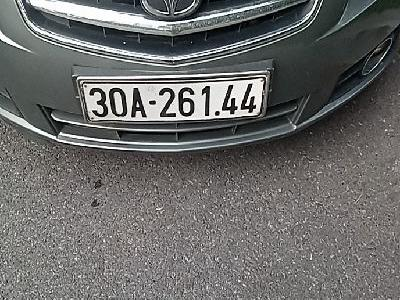lisence: (76, 71, 271, 127)
